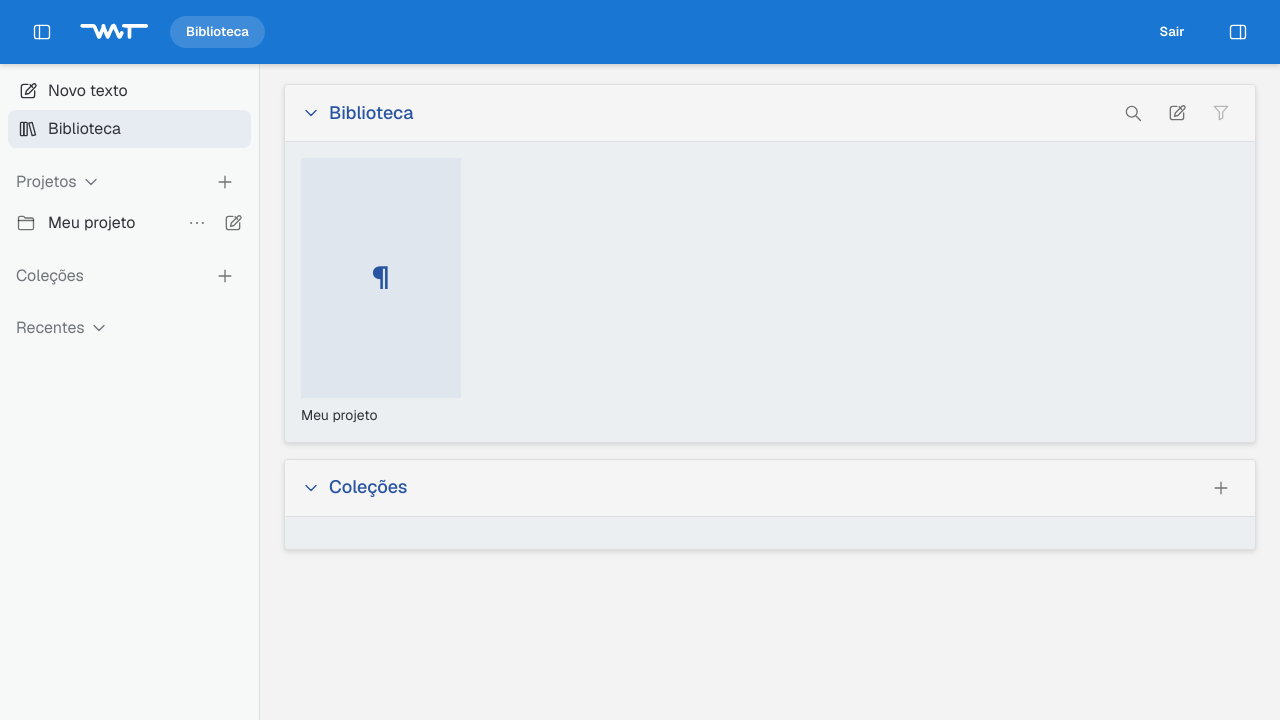
Scenario: searches projects and text content in a dialog and returns focus when closed
The width and height of the screenshot is (1280, 720).
Check: the button named "Filtros (em planejamento)" is disabled, box x1=1203 y1=95 x2=1239 y2=131
Click the button named "Buscar na biblioteca".
click(1133, 113)  # box x1=1115 y1=95 x2=1151 y2=131
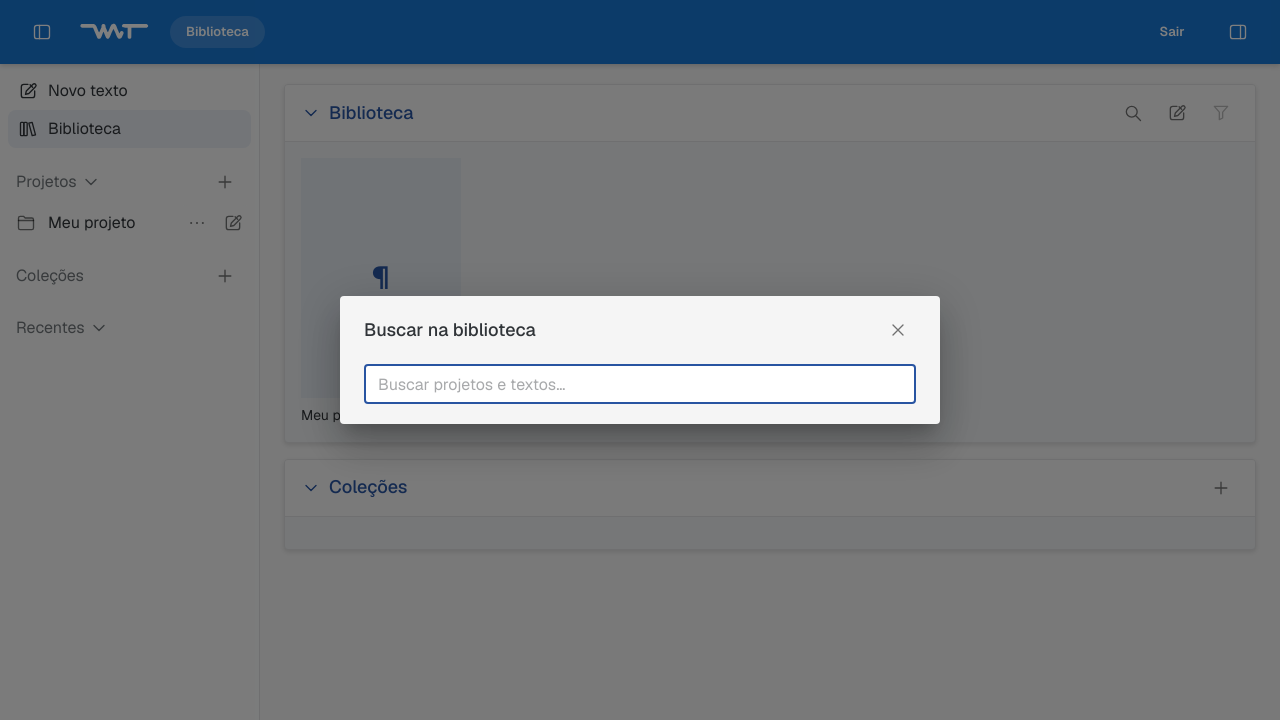
Type "ideia" into the search field labelled "Buscar projetos e textos".
click(640, 384); type("ideia")  # box x1=364 y1=364 x2=916 y2=404
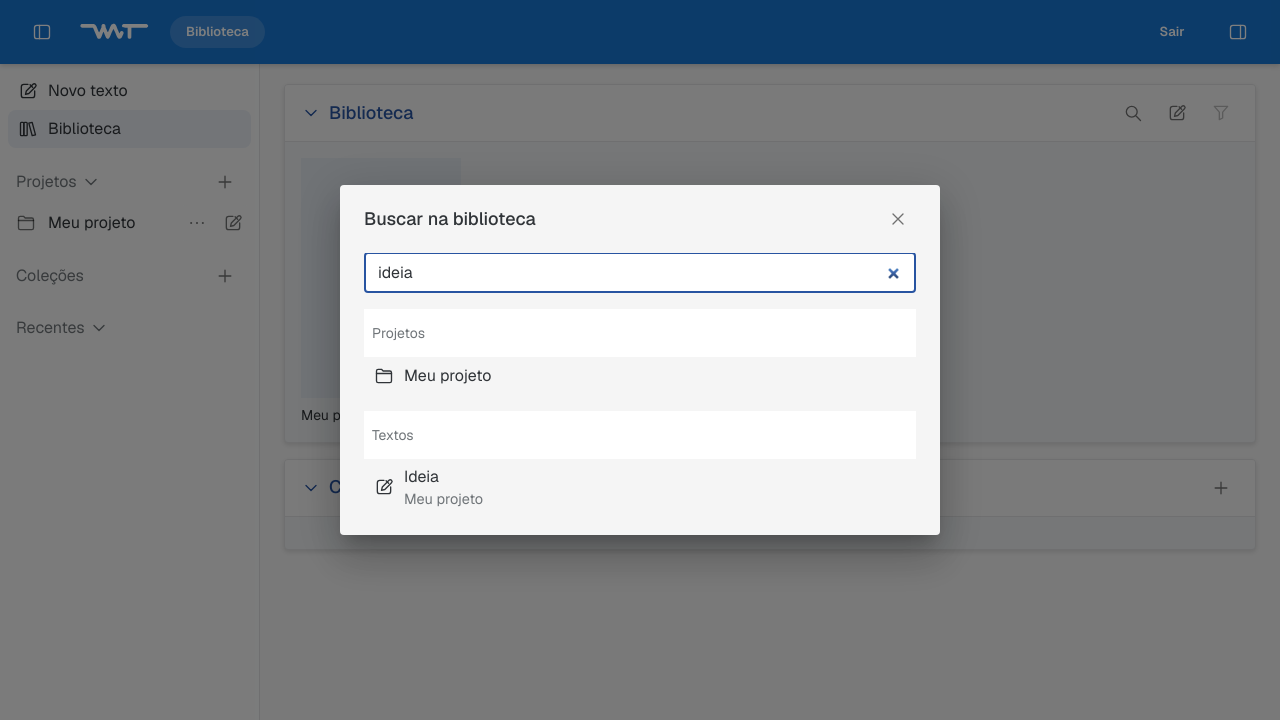
Press Escape
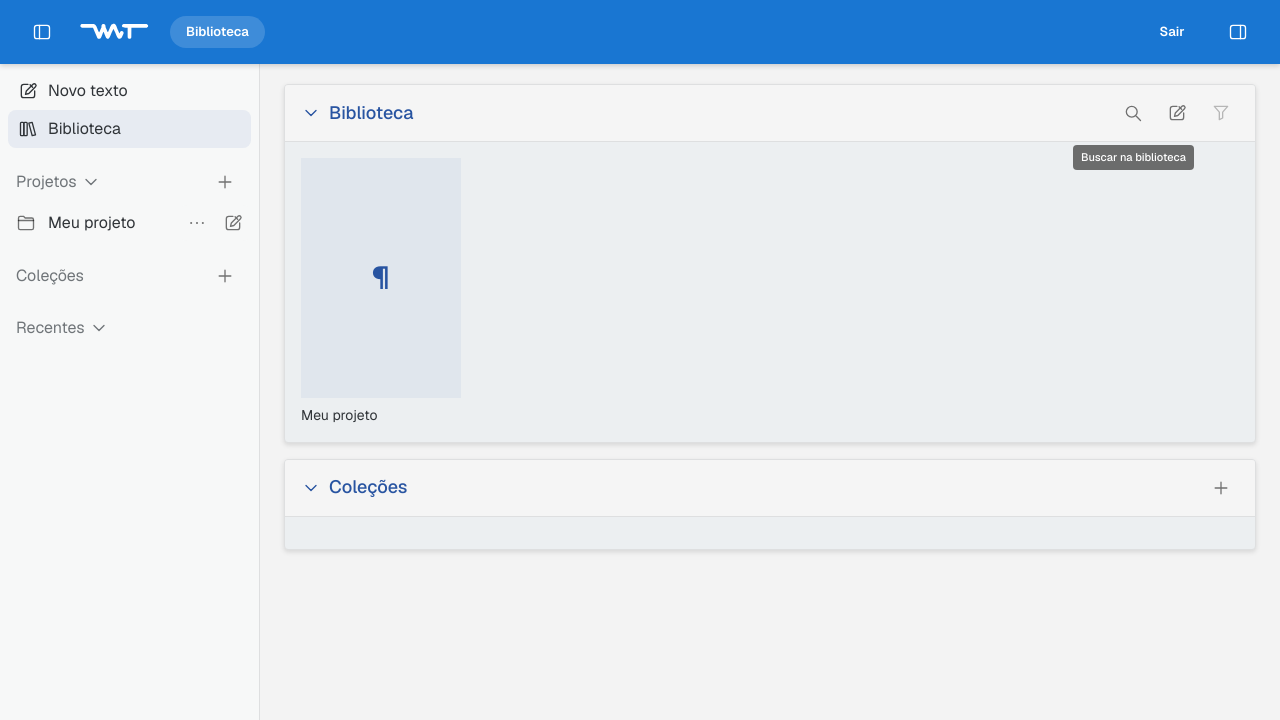
Check: the dialog is gone
